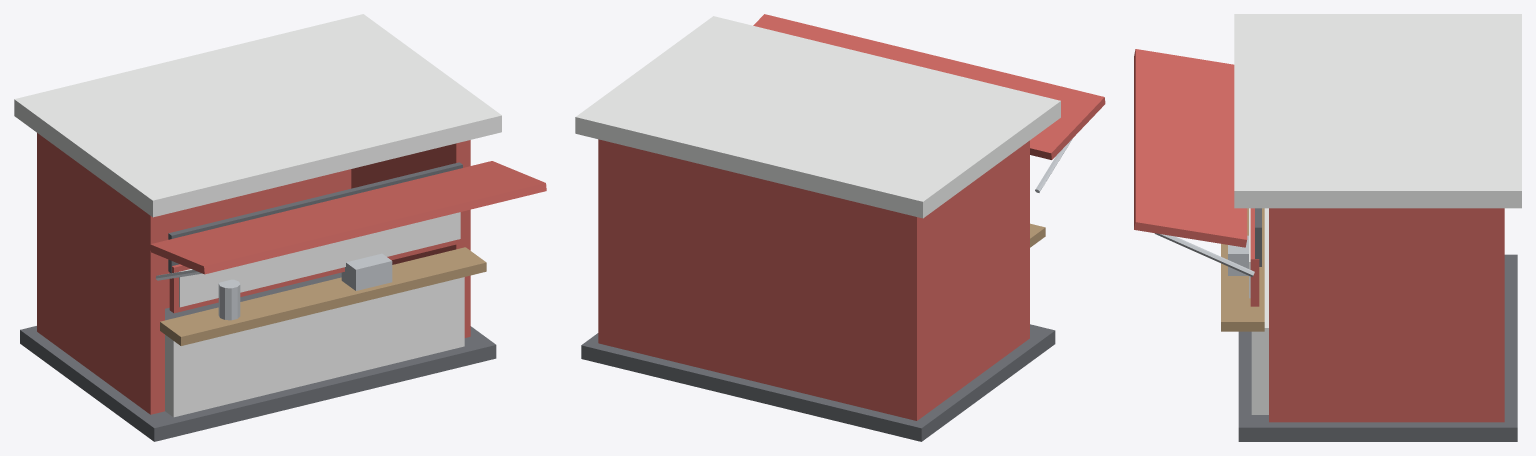
File: racecourse-and-parade-ring-bar-and-food-kiosk-7eefd7a3.glb
The picture shows the model from 3 angles, left to right: view 1: azimuth 30°, elevation 25°; view 2: azimuth 150°, elevation 25°; view 3: azimuth 270°, elevation 25°; orthographic projection. The views are drawn at different scales.
Visible parts, largest first — view 1: bar-and-food-kiosk; view 2: bar-and-food-kiosk; view 3: bar-and-food-kiosk.
Part boxes in pixels (x1,y1,x2,y2): bar-and-food-kiosk: (14,14,546,441); bar-and-food-kiosk: (575,14,1105,441); bar-and-food-kiosk: (1134,14,1521,441).
Size of the model in its own units: 4.8 by 3.2 by 4.45.
